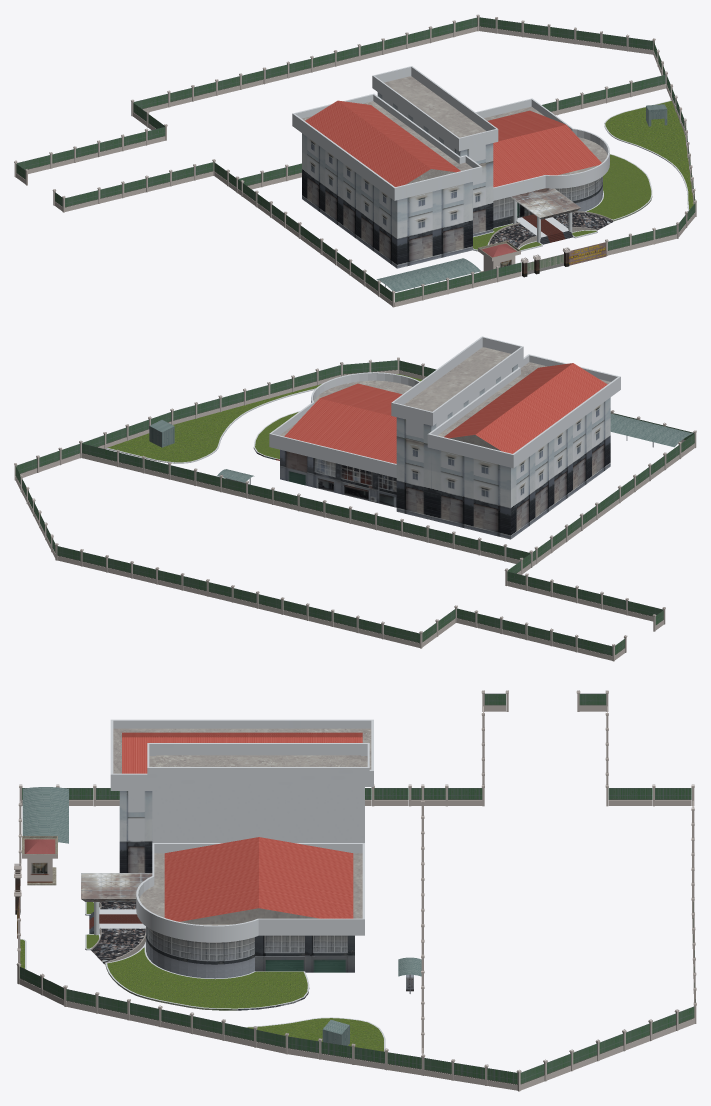
The model's file is Trung tam Luu tru lich su tinh Binh Phuoc.glb.
The picture shows the model from 3 angles, top to bottom: view 1: azimuth 30°, elevation 25°; view 2: azimuth 150°, elevation 25°; view 3: azimuth 270°, elevation 25°; orthographic projection. The views are drawn at different scales.
Parts seen in each view (by area): view 1: BPH086_2_3, BPH086_1, BPH086_2_3.003, BPH086_2_3.002; view 2: BPH086_2_3, BPH086_1, BPH086_2_3.003, BPH086_2_3.002; view 3: BPH086_2_3, BPH086_1, BPH086_2_3.003, BPH086_2_3.002.
Part boxes in pixels (bbox=[...]): BPH086_2_3: bbox=[292, 66, 652, 268]; BPH086_1: bbox=[14, 14, 696, 307]; BPH086_2_3.003: bbox=[604, 100, 693, 211]; BPH086_2_3.002: bbox=[376, 258, 480, 292]; BPH086_2_3: bbox=[253, 336, 620, 539]; BPH086_1: bbox=[14, 357, 696, 661]; BPH086_2_3.003: bbox=[106, 374, 421, 463]; BPH086_2_3.002: bbox=[610, 413, 692, 447]; BPH086_2_3: bbox=[81, 719, 373, 1010]; BPH086_1: bbox=[14, 690, 696, 1091]; BPH086_2_3.003: bbox=[20, 939, 385, 1051]; BPH086_2_3.002: bbox=[22, 787, 68, 843].
Bounding box in the file's own units: 117 × 19.23 × 88.5.
Materials: 2 (2 with a texture image).
